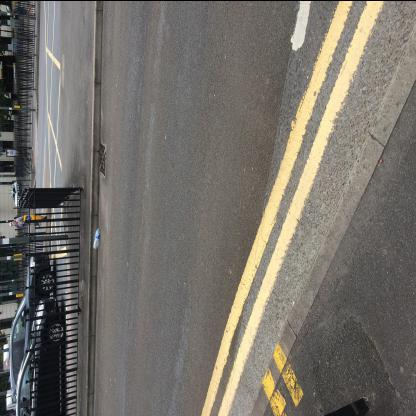plastik: (94, 226, 100, 249)
